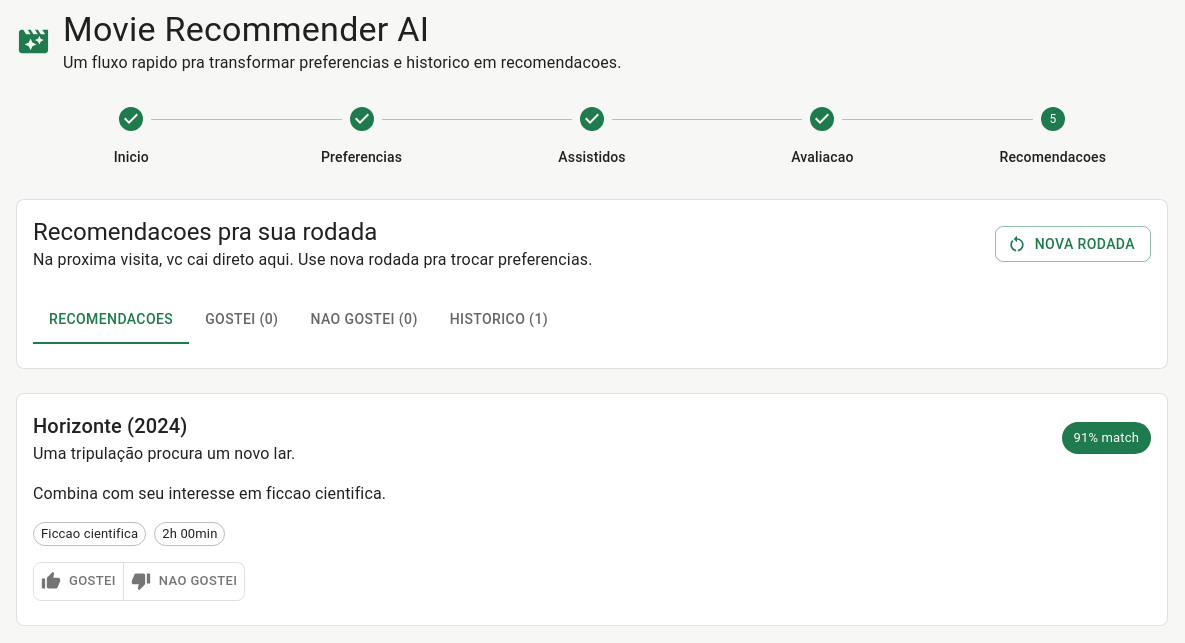
Test case: recommendation journey › when viewing an existing recommendation round › starts a new round with the preference step
Expected: the heading "Horizonte (2024)" is shown, left=33, top=414, right=188, bottom=438
Click the button "Nova rodada". click: [1073, 244]
box: left=995, top=226, right=1151, bottom=262
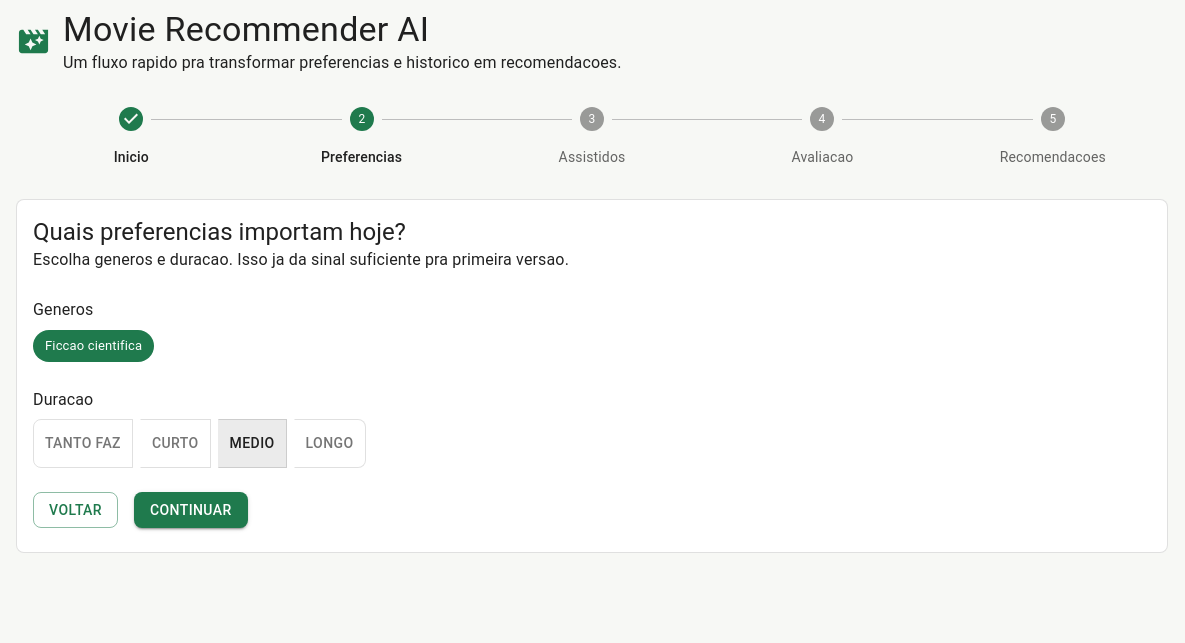
Result: the heading "Quais preferencias importam hoje?" is shown at left=33, top=218, right=406, bottom=246
